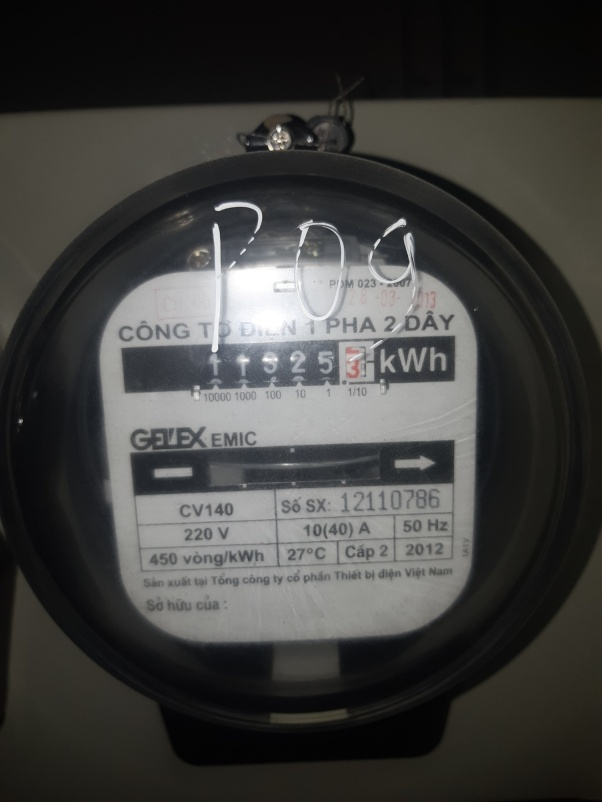counter: (122, 342, 455, 386)
electricity_meter: (9, 150, 597, 711)
